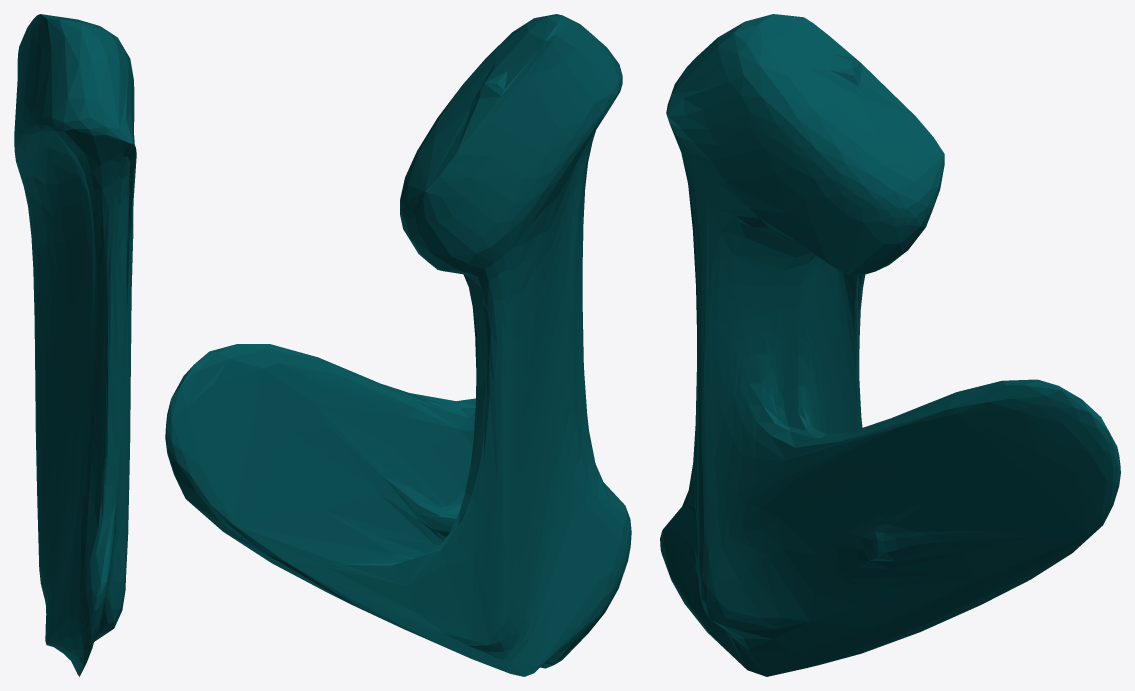
3 views of the same model, side by side, from view 1: azimuth 30°, elevation 25°; view 2: azimuth 150°, elevation 25°; view 3: azimuth 270°, elevation 25° (orthographic).
Parts seen in each view (by area): view 1: 630_Cube.2535; view 2: 630_Cube.2535; view 3: 630_Cube.2535.
Boxes of the visible parts, x1=… form: 630_Cube.2535: x1=14, y1=14, x2=136, y2=676; 630_Cube.2535: x1=165, y1=14, x2=631, y2=676; 630_Cube.2535: x1=660, y1=14, x2=1120, y2=676.
Bounding box in the file's own units: 5.69 × 13.71 × 8.74.
